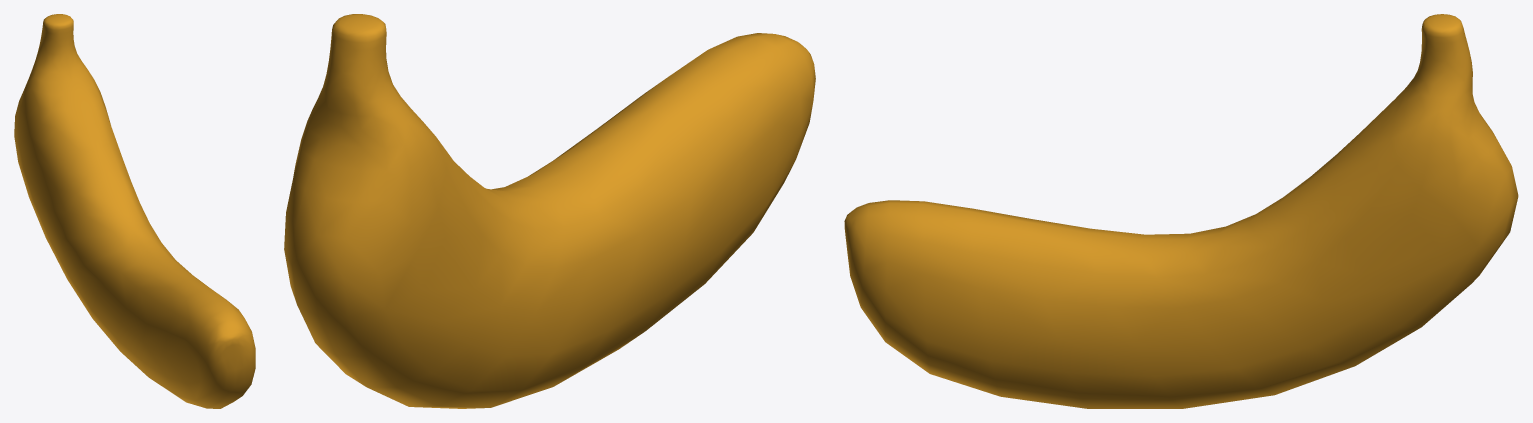
Rendered from banana.fbx.
3 views of the same model, side by side, from view 1: azimuth 30°, elevation 25°; view 2: azimuth 150°, elevation 25°; view 3: azimuth 270°, elevation 25° (orthographic). The views are drawn at different scales.
Parts seen in each view (by area): view 1: Cube; view 2: Cube; view 3: Cube.
Part boxes in pixels (x1,y1,x2,y2): Cube: (14, 14, 255, 408); Cube: (284, 14, 815, 408); Cube: (844, 14, 1518, 408).
Bounding box in the file's own units: 102 × 294 × 459.
